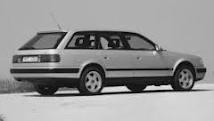car: (8, 9, 209, 93)
